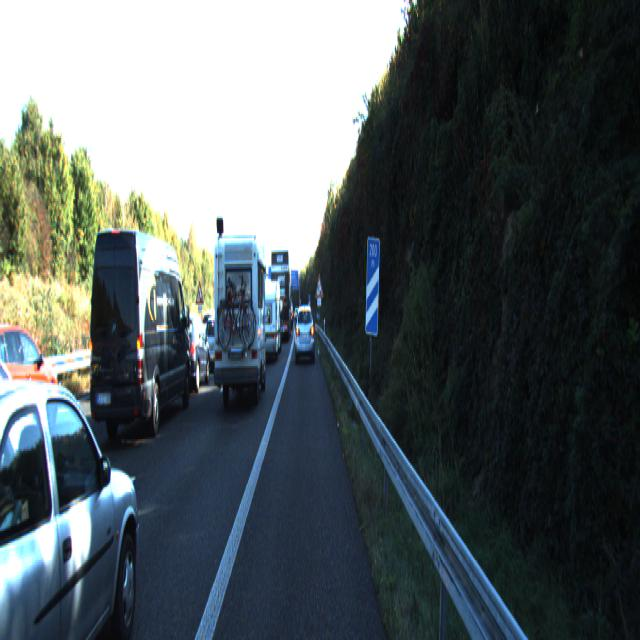Car: (0, 354, 143, 638), (88, 224, 191, 450), (0, 330, 51, 530), (212, 237, 268, 410), (0, 320, 63, 454), (167, 312, 210, 393), (253, 276, 280, 362), (271, 245, 290, 339), (295, 302, 314, 362)
